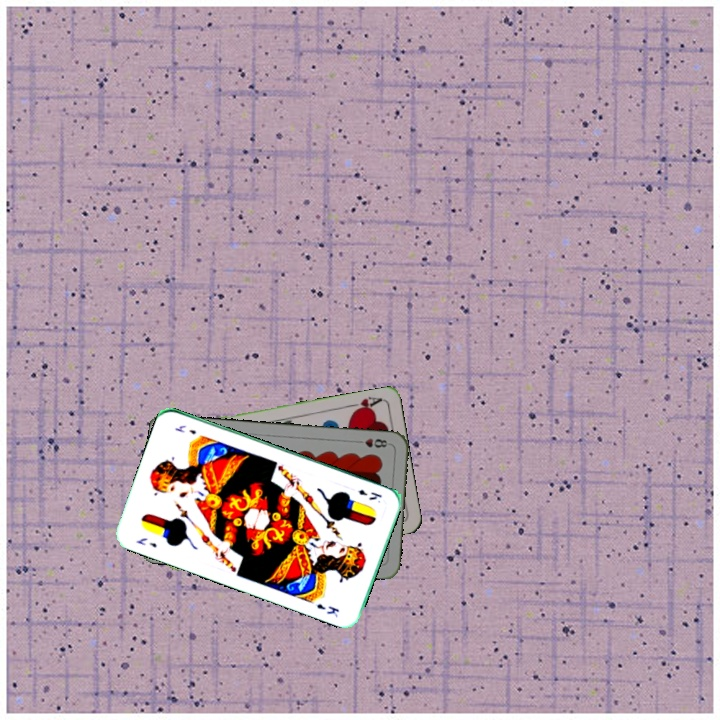EK: (354, 485, 384, 503), (132, 534, 159, 550)
H8: (352, 434, 392, 450)
HA: (344, 393, 385, 416)
